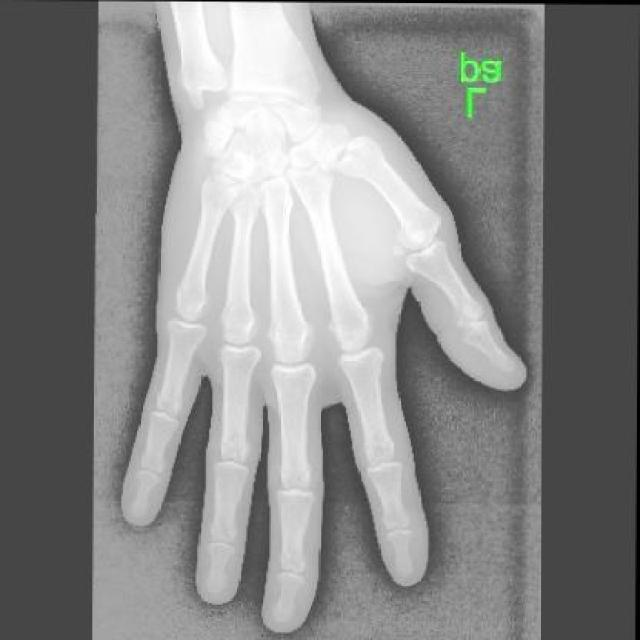Fracture: (332, 135, 382, 179)
